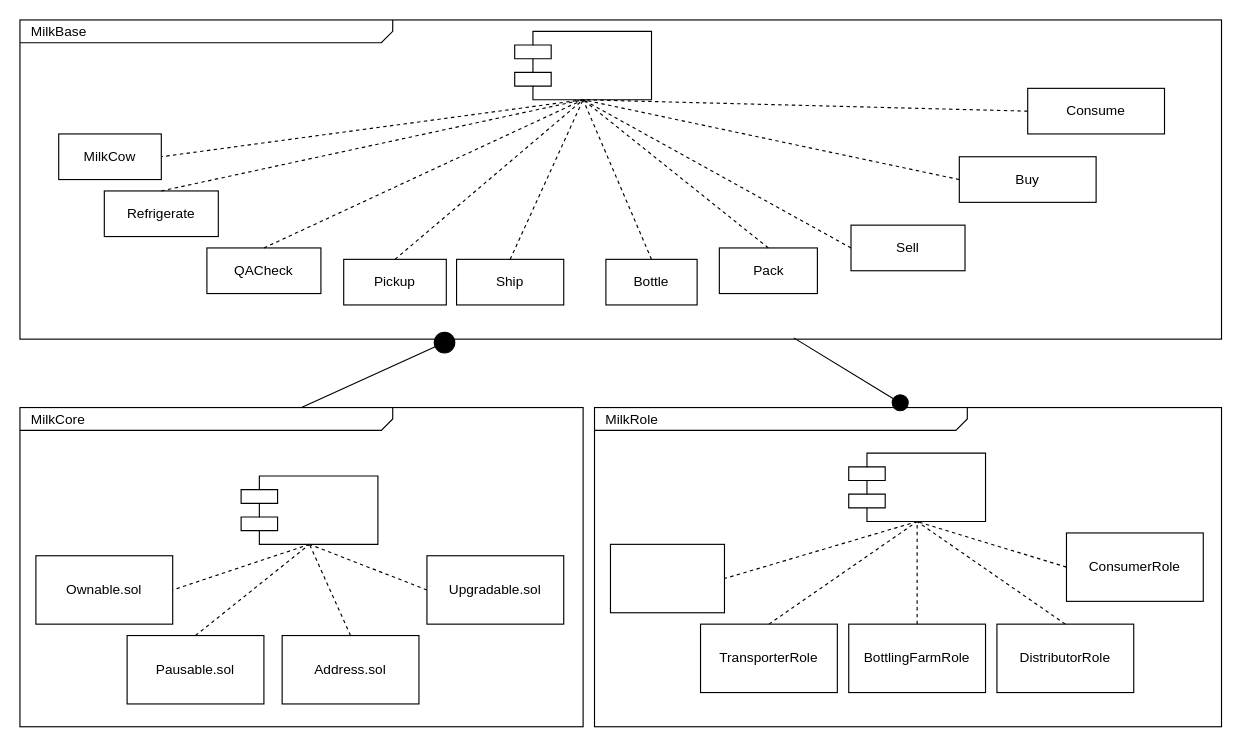
This 1241x747 diagram has some shape labels left out. Here are the shapes that lost their labels. From the top down, the centre of each, then its label:
At point 583,65: "MilkChain.sol".
At point 917,487: "MilkRoles.sol".
At point 309,509: "MilkCore.sol".
At point 666,578: "FarmerRole".
